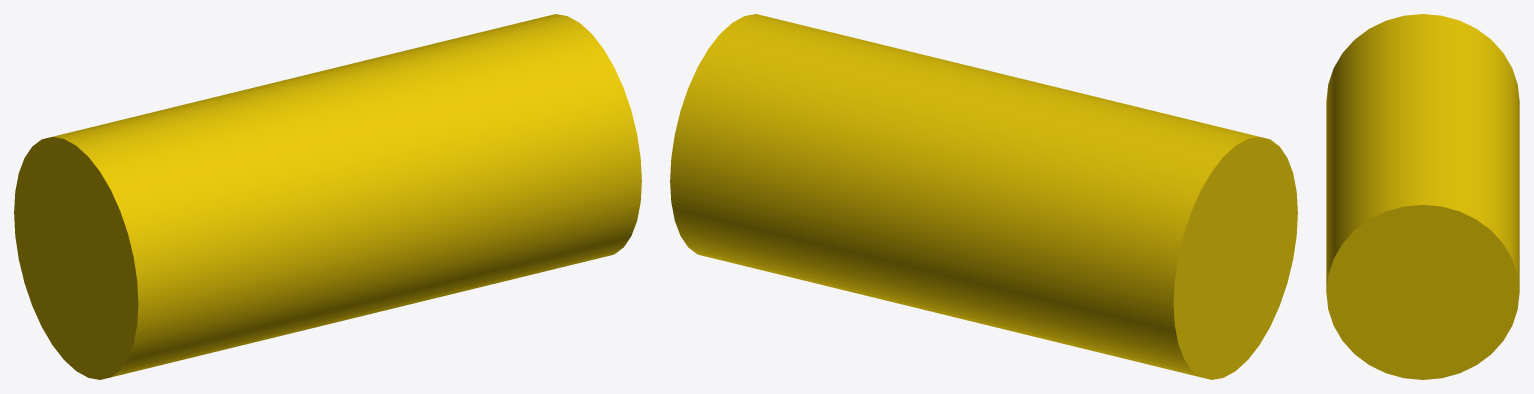
Rendered from handguard_03.fbx.
3 renders of one model, left to right at view 1: azimuth 30°, elevation 25°; view 2: azimuth 150°, elevation 25°; view 3: azimuth 270°, elevation 25°, orthographic. The views are drawn at different scales.
Visible parts, largest first — view 1: Cylinder.002; view 2: Cylinder.002; view 3: Cylinder.002.
Boxes of the visible parts, <box> form: Cylinder.002: <box>14,14,641,379</box>; Cylinder.002: <box>670,14,1297,379</box>; Cylinder.002: <box>1326,14,1519,379</box>.
Bounding box in the file's own units: 373 × 160 × 160.
